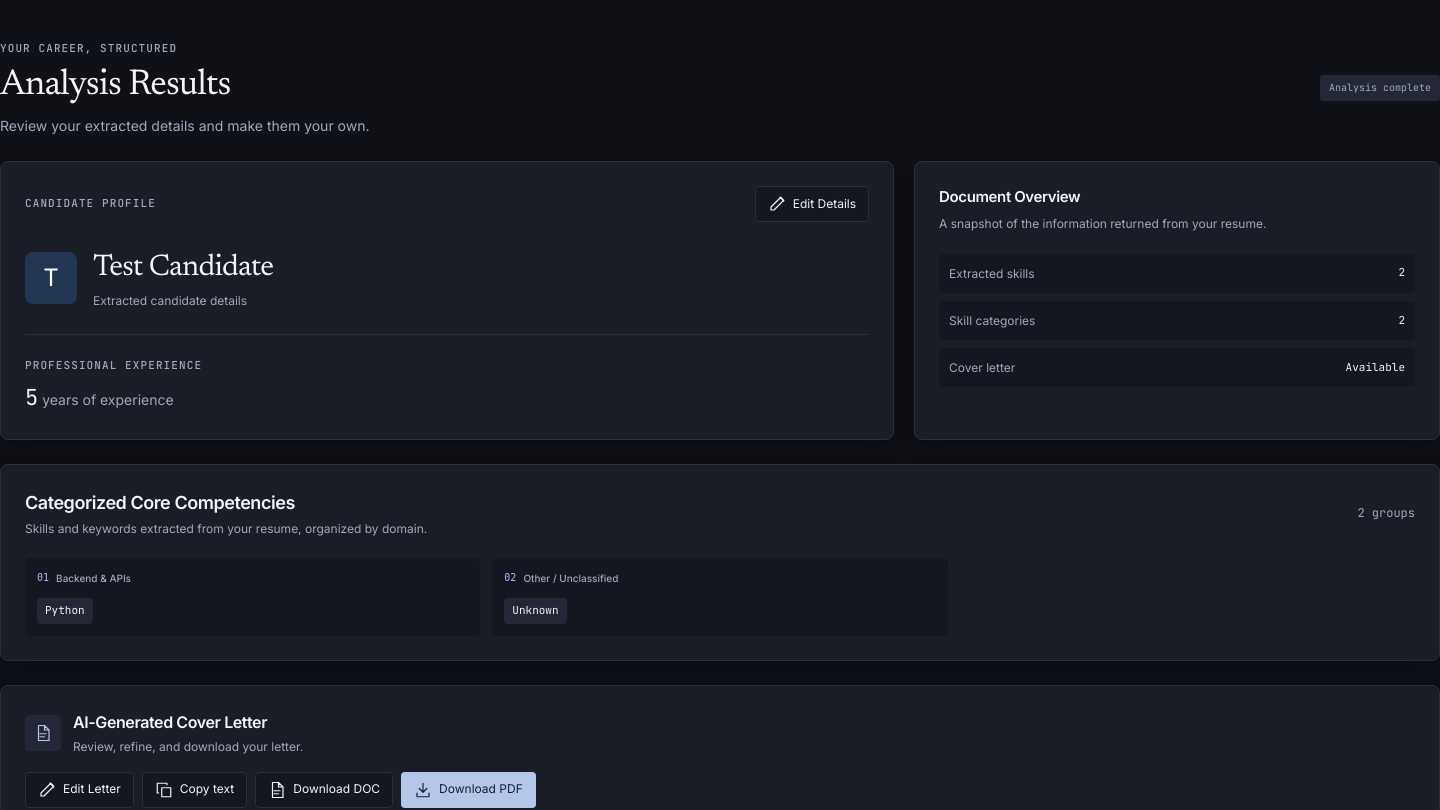
Test case: rejects unreasonable candidate edits
Click the button "Edit Details" at (812, 204), box [755, 186, 869, 222]
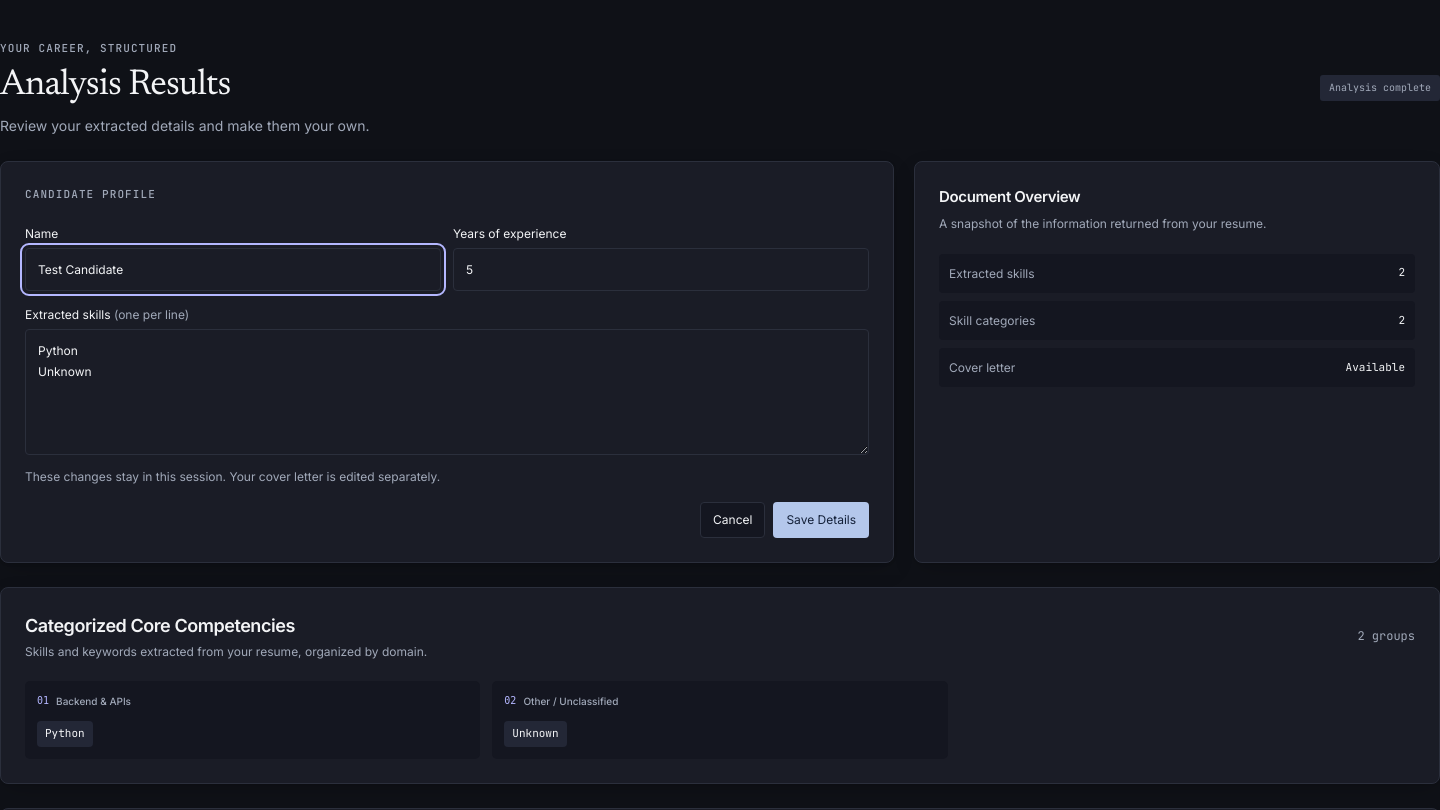
Replace the text in the number field labelled "Years of experience" with "-1" at (661, 269), box [453, 248, 869, 291]
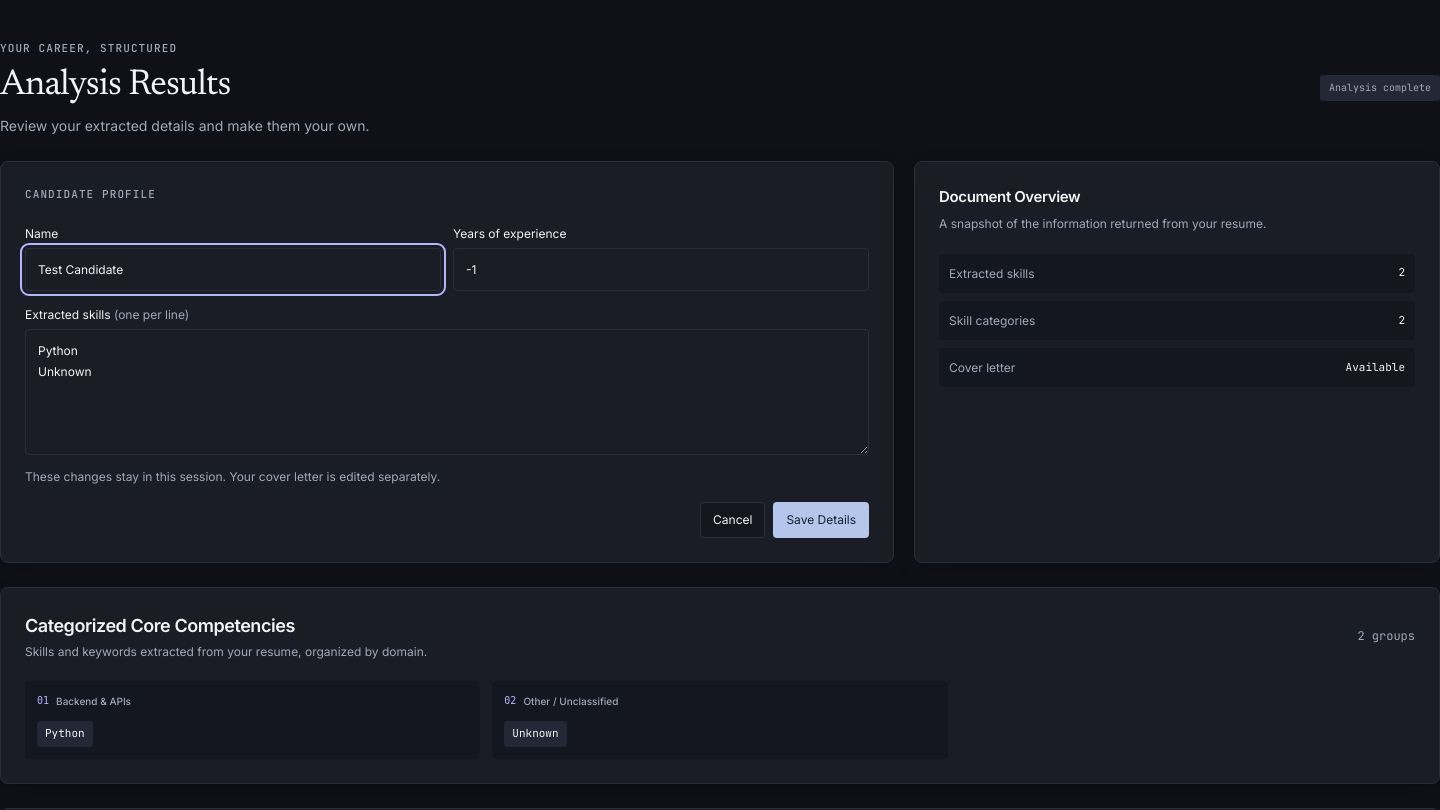
Click the button "Save Details" at (821, 520), box [773, 502, 869, 538]
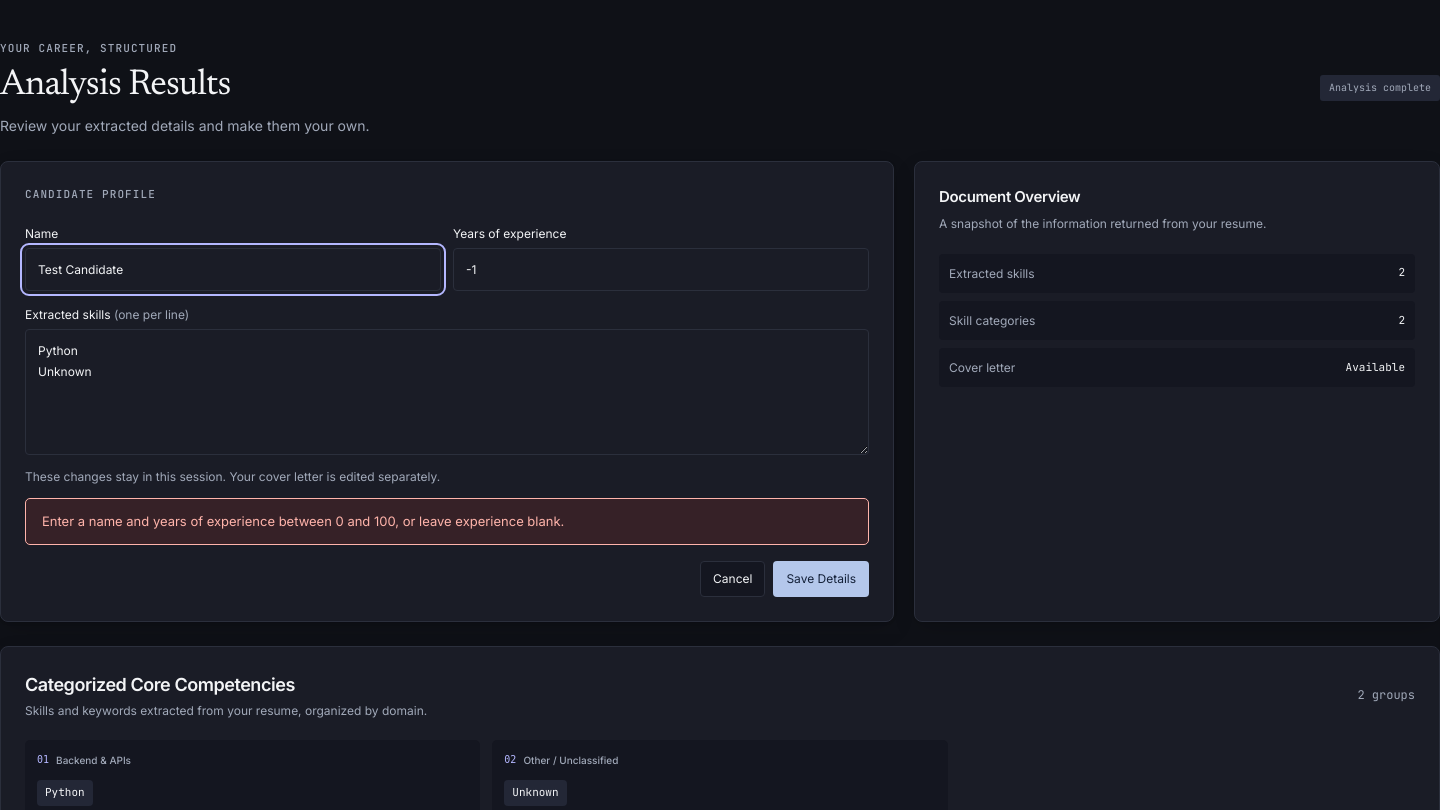
Check: the message shows "between 0 and 100", box [42, 513, 564, 529]
